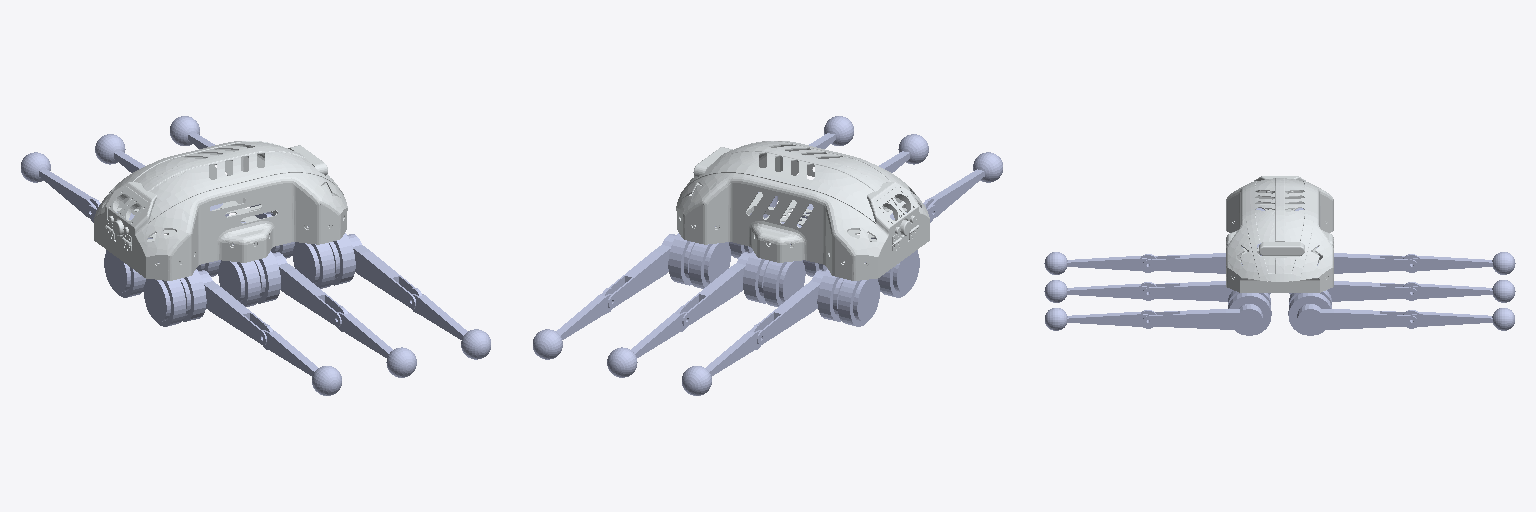
--- Facts derived from the render (not from the file) ---
3 views of the same robot in one strip: view 1: azimuth 30°, elevation 25°; view 2: azimuth 150°, elevation 25°; view 3: azimuth 270°, elevation 25° (orthographic).
Model new with 19 links and 18 joints (18 revolute), rooted at base_link, posed all joints at 0.
Visible links, largest first — view 1: base_link, R1_2, R3_2, R2_2, R1_3, R2_3, R3_3, R3_1, L3_3, R2_1, R1_1, L3_1 (+2 smaller); view 2: base_link, L1_2, L3_2, L2_2, L1_3, L2_3, L3_3, L3_1, R3_3, L2_1, L1_1, R3_1 (+2 smaller); view 3: base_link, L1_2, R1_2, L2_2, R2_2, L3_2, R3_2, L2_3, R3_3, R1_3, R2_3, L3_3 (+1 smaller).
Link boxes in pixels (x1,y1,x2,y2): base_link: (94, 141, 347, 280); R1_2: (329, 233, 415, 308); R3_2: (180, 269, 272, 344); R2_2: (254, 251, 347, 326); R1_3: (409, 288, 490, 359); R2_3: (335, 306, 416, 377); R3_3: (260, 324, 341, 395); R3_1: (144, 262, 185, 326); L3_3: (21, 152, 100, 222); R2_1: (218, 222, 260, 306); R1_1: (293, 226, 334, 288); L3_1: (104, 212, 152, 297); base_link: (676, 141, 929, 280); L1_2: (608, 233, 694, 308); L3_2: (751, 269, 843, 344); L2_2: (676, 251, 769, 326); L1_3: (533, 288, 614, 359); L2_3: (607, 306, 688, 377); L3_3: (682, 324, 763, 395); L3_1: (838, 262, 879, 326); R3_3: (923, 152, 1002, 222); L2_1: (763, 222, 805, 306); L1_1: (689, 226, 730, 288); R3_1: (871, 212, 919, 297); base_link: (1226, 176, 1333, 292); L1_2: (1288, 293, 1416, 335); R1_2: (1143, 293, 1271, 335); L2_2: (1289, 281, 1416, 301); R2_2: (1143, 281, 1270, 301); L3_2: (1334, 253, 1416, 273); R3_2: (1143, 253, 1225, 273); L2_3: (1403, 280, 1515, 302); R3_3: (1044, 252, 1156, 274); R1_3: (1045, 308, 1156, 330); R2_3: (1044, 280, 1156, 302); L3_3: (1403, 252, 1515, 274).
Bounding box of the posed robot: 0.4304 × 1 × 0.2403 m (x, y, z).
Meshes: 19 distinct files referenced, 19 mesh visuals loaded (19 binary STL).

robot.urdf — new:
<?xml version="1.0" encoding="utf-8"?>
<!-- This URDF was automatically created by SolidWorks to URDF Exporter! Originally created by Stephen Brawner ([email redacted]) 
     Commit Version: 1.6.0-4-g7f85cfe  Build Version: 1.6.7995.38578
     For more information, please see http://wiki.ros.org/sw_urdf_exporter -->
<robot
  name="new">
  <link
    name="base_link">
    <inertial>
      <origin
        xyz="0.0021167 8.5198E-05 0.02981"
        rpy="0 0 0" />
      <mass
        value="1.604" />
      <!-- <inertia
        ixx="0.0093722"
        ixy="-2.3907E-07"
        ixz="0.00039019"
        iyy="0.01924"
        iyz="1.5047E-06"
        izz="0.024851" />
    </inertial> -->
            <inertia
        ixx="1"
        ixy="0"
        ixz="0"
        iyy="1"
        iyz="0"
        izz="1" />
      </inertial> 
    <visual>
      <origin
        xyz="0 0 0"
        rpy="0 0 0" />
      <geometry>
        <mesh
          filename="package://new/meshes/base_link.STL" />
      </geometry>
      <material
        name="">
        <color
          rgba="0.89804 0.91765 0.92941 1" />
      </material>
    </visual>
    <collision>
      <origin
        xyz="0 0 0"
        rpy="0 0 0" />
      <geometry>
        <mesh
          filename="package://new/meshes/base_link.STL" />
      </geometry>
    </collision>
  </link>

  <!-- <xacro:include filename="$(find realsense2_description)/urdf/_d435i.urdf.xacro"/>
  <sensor_d435i parent="base_link" use_nominal_extrinsics="true">
    <origin xyz="0.0 -0.06 0.070" rpy="0 0 -1.57" />
  </sensor_d435i>   -->

  <link
    name="L1_1">
    <inertial>
      <origin
        xyz="-0.00067309 1.4848E-09 -0.031863"
        rpy="0 0 0" />
      <mass
        value="0.42231" />
      <!-- <inertia
        ixx="0.00033286"
        ixy="-3.0595E-13"
        ixz="-2.9159E-11"
        iyy="0.00024704"
        iyz="-1.474E-11"
        izz="0.00033852" />
    </inertial> -->
            <inertia
        ixx="1"
        ixy="0"
        ixz="0"
        iyy="1"
        iyz="0"
        izz="1" />
      </inertial> 
    <visual>
      <origin
        xyz="0 0 0"
        rpy="0 0 0" />
      <geometry>
        <mesh
          filename="package://new/meshes/L1_1.STL" />
      </geometry>
      <material
        name="">
        <color
          rgba="0.79216 0.81961 0.93333 1" />
      </material>
    </visual>
    <collision>
      <origin
        xyz="0 0 0"
        rpy="0 0 0" />
      <geometry>
        <mesh
          filename="package://new/meshes/L1_1.STL" />
      </geometry>
    </collision>
  </link>
  <joint
    name="L1_1J"
    type="revolute">
    <origin
      xyz="0.1409 0.065 -0.02125"
      rpy="0 0 0" />
    <parent
      link="base_link" />
    <child
      link="L1_1" />
    <axis
      xyz="0 0 -1" />
    <limit
      lower="-3"
      upper="3"
      effort="100"
      velocity="3" />
      <dynamics damping="0" friction="0.02"/>
  </joint>
  <link
    name="L1_2">
    <inertial>
      <origin
        xyz="0.049658 0.026192 -4.3584E-06"
        rpy="0 0 0" />
      <mass
        value="0.36848" />
      <!-- <inertia
        ixx="0.0011427"
        ixy="-0.00016978"
        ixz="2.8266E-08"
        iyy="0.0002345"
        iyz="1.9571E-07"
        izz="0.0011212" />
    </inertial> -->
            <inertia
        ixx="1"
        ixy="0"
        ixz="0"
        iyy="1"
        iyz="0"
        izz="1" />
      </inertial> 
    <visual>
      <origin
        xyz="0 0 0"
        rpy="0 0 0" />
      <geometry>
        <mesh
          filename="package://new/meshes/L1_2.STL" />
      </geometry>
      <material
        name="">
        <color
          rgba="0.79216 0.81961 0.93333 1" />
      </material>
    </visual>
    <collision>
      <origin
        xyz="0 0 0"
        rpy="0 0 0" />
      <geometry>
        <mesh
          filename="package://new/meshes/L1_2.STL" />
      </geometry>
    </collision>
  </link>
  <joint
    name="L1_2J"
    type="revolute">
    <origin
      xyz="0 0 -0.06575"
      rpy="0 0 0" />
    <parent
      link="L1_1" />
    <child
      link="L1_2" />
    <axis
      xyz="1 0 0" />
    <limit
      lower="-3"
      upper="3"
      effort="100"
      velocity="3" />
      <dynamics damping="0" friction="0.02"/>
  </joint>
  <link
    name="L1_3">
    <inertial>
      <origin
        xyz="-0.003 0.13449 2.7756E-17"
        rpy="0 0 0" />
      <mass
        value="0.12147" />
      <!-- <inertia
        ixx="0.00070059"
        ixy="1.7121E-19"
        ixz="5.131E-14"
        iyy="2.025E-05"
        iyz="-6.2828E-20"
        izz="0.00069843" />
    </inertial> -->
            <inertia
        ixx="1"
        ixy="0"
        ixz="0"
        iyy="1"
        iyz="0"
        izz="1" />
      </inertial> 
    <visual>
      <origin
        xyz="0 0 0"
        rpy="0 0 0" />
      <geometry>
        <mesh
          filename="package://new/meshes/L1_3.STL" />
      </geometry>
      <material
        name="">
        <color
          rgba="0.79216 0.81961 0.93333 1" />
      </material>
    </visual>
    <collision>
      <origin
        xyz="0 0 0"
        rpy="0 0 0" />
      <geometry>
        <mesh
          filename="package://new/meshes/L1_3.STL" />
      </geometry>
    </collision>
  </link>
  <joint
    name="L1_3J"
    type="revolute">
    <origin
      xyz="0.07025 0.216 0"
      rpy="0 0 0" />
    <parent
      link="L1_2" />
    <child
      link="L1_3" />
    <axis
      xyz="1 0 0" />
    <limit
      lower="-3"
      upper="3"
      effort="100"
      velocity="3" />
      <dynamics damping="0" friction="0.02"/>
  </joint>
  <link
    name="R1_1">
    <inertial>
      <origin
        xyz="-0.00067309 1.4848E-09 -0.031863"
        rpy="0 0 0" />
      <mass
        value="0.42231" />
      <!-- <inertia
        ixx="0.00033286"
        ixy="-3.0595E-13"
        ixz="-2.9159E-11"
        iyy="0.00024704"
        iyz="-1.474E-11"
        izz="0.00033852" />
    </inertial> -->
            <inertia
        ixx="1"
        ixy="0"
        ixz="0"
        iyy="1"
        iyz="0"
        izz="1" />
      </inertial> 
    <visual>
      <origin
        xyz="0 0 0"
        rpy="0 0 0" />
      <geometry>
        <mesh
          filename="package://new/meshes/R1_1.STL" />
      </geometry>
      <material
        name="">
        <color
          rgba="0.79216 0.81961 0.93333 1" />
      </material>
    </visual>
    <collision>
      <origin
        xyz="0 0 0"
        rpy="0 0 0" />
      <geometry>
        <mesh
          filename="package://new/meshes/R1_1.STL" />
      </geometry>
    </collision>
  </link>
  <joint
    name="R1_1J"
    type="revolute">
    <origin
      xyz="0.1409 -0.065 -0.02125"
      rpy="0 0 0" />
    <parent
      link="base_link" />
    <child
      link="R1_1" />
    <axis
      xyz="0 0 -1" />
    <limit
      lower="-3"
      upper="3"
      effort="100"
      velocity="3" />
      <dynamics damping="0" friction="0.02"/>
  </joint>
  <link
    name="R1_2">
    <inertial>
      <origin
        xyz="0.049658 -0.026192 4.3627E-06"
        rpy="0 0 0" />
      <mass
        value="0.36848" />
      <!-- <inertia
        ixx="0.0011427"
        ixy="0.00016978"
        ixz="-2.8266E-08"
        iyy="0.0002345"
        iyz="1.9571E-07"
        izz="0.0011212" />
    </inertial> -->
            <inertia
        ixx="1"
        ixy="0"
        ixz="0"
        iyy="1"
        iyz="0"
        izz="1" />
      </inertial> 
    <visual>
      <origin
        xyz="0 0 0"
        rpy="0 0 0" />
      <geometry>
        <mesh
          filename="package://new/meshes/R1_2.STL" />
      </geometry>
      <material
        name="">
        <color
          rgba="0.79216 0.81961 0.93333 1" />
      </material>
    </visual>
    <collision>
      <origin
        xyz="0 0 0"
        rpy="0 0 0" />
      <geometry>
        <mesh
          filename="package://new/meshes/R1_2.STL" />
      </geometry>
    </collision>
  </link>
  <joint
    name="R1_2J"
    type="revolute">
    <origin
      xyz="0 0 -0.06575"
      rpy="0 0 0" />
    <parent
      link="R1_1" />
    <child
      link="R1_2" />
    <axis
      xyz="1 0 0" />
    <limit
      lower="-3"
      upper="3"
      effort="100"
      velocity="3" />
      <dynamics damping="0" friction="0.02"/>
  </joint>
  <link
    name="R1_3">
    <inertial>
      <origin
        xyz="-0.003 -0.13449 -5.5511E-17"
        rpy="0 0 0" />
      <mass
        value="0.12147" />
      <!-- <inertia
        ixx="0.00070059"
        ixy="-1.2934E-19"
        ixz="-5.131E-14"
        iyy="2.025E-05"
        iyz="-6.9753E-20"
        izz="0.00069843" />
    </inertial> -->
            <inertia
        ixx="1"
        ixy="0"
        ixz="0"
        iyy="1"
        iyz="0"
        izz="1" />
      </inertial> 
    <visual>
      <origin
        xyz="0 0 0"
        rpy="0 0 0" />
      <geometry>
        <mesh
          filename="package://new/meshes/R1_3.STL" />
      </geometry>
      <material
        name="">
        <color
          rgba="0.79216 0.81961 0.93333 1" />
      </material>
    </visual>
    <collision>
      <origin
        xyz="0 0 0"
        rpy="0 0 0" />
      <geometry>
        <mesh
          filename="package://new/meshes/R1_3.STL" />
      </geometry>
    </collision>
  </link>
  <joint
    name="R1_3J"
    type="revolute">
    <origin
      xyz="0.07025 -0.216 0"
      rpy="0 0 0" />
    <parent
      link="R1_2" />
    <child
      link="R1_3" />
    <axis
      xyz="1 0 0" />
    <limit
      lower="-3"
      upper="3"
      effort="100"
      velocity="3" />
      <dynamics damping="0" friction="0.02"/>
  </joint>
  <link
    name="L2_1">
    <inertial>
      <origin
        xyz="-0.00067309 1.4848E-09 -0.031863"
        rpy="0 0 0" />
      <mass
        value="0.42231" />
      <!-- <inertia
        ixx="0.00033286"
        ixy="-3.0595E-13"
        ixz="-2.9159E-11"
        iyy="0.00024704"
        iyz="-1.474E-11"
        izz="0.00033852" />
    </inertial> -->
            <inertia
        ixx="1"
        ixy="0"
        ixz="0"
        iyy="1"
        iyz="0"
        izz="1" />
      </inertial> 
    <visual>
      <origin
        xyz="0 0 0"
        rpy="0 0 0" />
      <geometry>
        <mesh
          filename="package://new/meshes/L2_1.STL" />
      </geometry>
      <material
        name="">
        <color
          rgba="0.79216 0.81961 0.93333 1" />
      </material>
    </visual>
    <collision>
      <origin
        xyz="0 0 0"
        rpy="0 0 0" />
      <geometry>
        <mesh
          filename="package://new/meshes/L2_1.STL" />
      </geometry>
    </collision>
  </link>
  <joint
    name="L2_1J"
    type="revolute">
    <origin
      xyz="0 0.065 -0.02125"
      rpy="0 0 0" />
    <parent
      link="base_link" />
    <child
      link="L2_1" />
    <axis
      xyz="0 0 -1" />
    <limit
      lower="-3"
      upper="3"
      effort="100"
      velocity="3" />
      <dynamics damping="0" friction="0.02"/>
  </joint>
  <link
    name="L2_2">
    <inertial>
      <origin
        xyz="0.049658 0.026192 -4.3584E-06"
        rpy="0 0 0" />
      <mass
        value="0.36848" />
      <!-- <inertia
        ixx="0.0011427"
        ixy="-0.00016978"
        ixz="2.8266E-08"
        iyy="0.0002345"
        iyz="1.9571E-07"
        izz="0.0011212" />
    </inertial> -->
            <inertia
        ixx="1"
        ixy="0"
        ixz="0"
        iyy="1"
        iyz="0"
        izz="1" />
      </inertial> 
    <visual>
      <origin
        xyz="0 0 0"
        rpy="0 0 0" />
      <geometry>
        <mesh
          filename="package://new/meshes/L2_2.STL" />
      </geometry>
      <material
        name="">
        <color
          rgba="0.79216 0.81961 0.93333 1" />
      </material>
    </visual>
    <collision>
      <origin
        xyz="0 0 0"
        rpy="0 0 0" />
      <geometry>
        <mesh
          filename="package://new/meshes/L2_2.STL" />
      </geometry>
    </collision>
  </link>
  <joint
    name="L2_2J"
    type="revolute">
    <origin
      xyz="0 0 -0.06575"
      rpy="0 0 0" />
    <parent
      link="L2_1" />
    <child
      link="L2_2" />
    <axis
      xyz="1 0 0" />
    <limit
      lower="-3"
      upper="3"
      effort="100"
      velocity="3" />
      <dynamics damping="0" friction="0.02"/>
  </joint>
  <link
    name="L2_3">
    <inertial>
      <origin
        xyz="-0.003 0.13449 0"
        rpy="0 0 0" />
      <mass
        value="0.12147" />
      <!-- <inertia
        ixx="0.00070059"
        ixy="1.5629E-19"
        ixz="5.131E-14"
        iyy="2.025E-05"
        iyz="-4.5384E-20"
        izz="0.00069843" />
    </inertial> -->
            <inertia
        ixx="1"
        ixy="0"
        ixz="0"
        iyy="1"
        iyz="0"
        izz="1" />
      </inertial> 
    <visual>
      <origin
        xyz="0 0 0"
        rpy="0 0 0" />
      <geometry>
        <mesh
          filename="package://new/meshes/L2_3.STL" />
      </geometry>
      <material
        name="">
        <color
          rgba="0.79216 0.81961 0.93333 1" />
      </material>
    </visual>
    <collision>
      <origin
        xyz="0 0 0"
        rpy="0 0 0" />
      <geometry>
        <mesh
          filename="package://new/meshes/L2_3.STL" />
      </geometry>
    </collision>
  </link>
  <joint
    name="L2_3J"
    type="revolute">
    <origin
      xyz="0.07025 0.216 0"
      rpy="0 0 0" />
    <parent
      link="L2_2" />
    <child
      link="L2_3" />
    <axis
      xyz="1 0 0" />
    <limit
      lower="-3"
      upper="3"
      effort="100"
      velocity="3" />
      <dynamics damping="0" friction="0.02"/>
  </joint>
  <link
    name="R2_1">
    <inertial>
      <origin
        xyz="-0.00067309 1.4848E-09 -0.031863"
        rpy="0 0 0" />
      <mass
        value="0.42231" />
      <!-- <inertia
        ixx="0.00033286"
        ixy="-3.0595E-13"
        ixz="-2.9159E-11"
        iyy="0.00024704"
        iyz="-1.474E-11"
        izz="0.00033852" />
    </inertial> -->
            <inertia
        ixx="1"
        ixy="0"
        ixz="0"
        iyy="1"
        iyz="0"
        izz="1" />
      </inertial> 
    <visual>
      <origin
        xyz="0 0 0"
        rpy="0 0 0" />
      <geometry>
        <mesh
          filename="package://new/meshes/R2_1.STL" />
      </geometry>
      <material
        name="">
        <color
          rgba="0.79216 0.81961 0.93333 1" />
      </material>
    </visual>
    <collision>
      <origin
        xyz="0 0 0"
        rpy="0 0 0" />
      <geometry>
        <mesh
          filename="package://new/meshes/R2_1.STL" />
      </geometry>
    </collision>
  </link>
  <joint
    name="R2_1J"
    type="revolute">
    <origin
      xyz="0 -0.065 -0.02125"
      rpy="0 0 0" />
    <parent
      link="base_link" />
    <child
      link="R2_1" />
    <axis
      xyz="0 0 -1" />
    <limit
      lower="-3"
      upper="3"
      effort="100"
      velocity="3" />
      <dynamics damping="0" friction="0.02"/>
  </joint>
  <link
    name="R2_2">
    <inertial>
      <origin
        xyz="0.049658 -0.026192 4.3627E-06"
        rpy="0 0 0" />
      <mass
        value="0.36848" />
      <!-- <inertia
        ixx="0.0011427"
        ixy="0.00016978"
        ixz="-2.8266E-08"
        iyy="0.0002345"
        iyz="1.9571E-07"
        izz="0.0011212" />
    </inertial> -->
            <inertia
        ixx="1"
        ixy="0"
        ixz="0"
        iyy="1"
        iyz="0"
        izz="1" />
      </inertial> 
    <visual>
      <origin
        xyz="0 0 0"
        rpy="0 0 0" />
      <geometry>
        <mesh
          filename="package://new/meshes/R2_2.STL" />
      </geometry>
      <material
        name="">
        <color
          rgba="0.79216 0.81961 0.93333 1" />
      </material>
    </visual>
    <collision>
      <origin
        xyz="0 0 0"
        rpy="0 0 0" />
      <geometry>
        <mesh
          filename="package://new/meshes/R2_2.STL" />
      </geometry>
    </collision>
  </link>
  <joint
    name="R2_2J"
    type="revolute">
    <origin
      xyz="0 0 -0.06575"
      rpy="0 0 0" />
    <parent
      link="R2_1" />
    <child
      link="R2_2" />
    <axis
      xyz="1 0 0" />
    <limit
      lower="-3"
      upper="3"
      effort="100"
      velocity="3" />
      <dynamics damping="0" friction="0.02"/>
  </joint>
  <link
    name="R2_3">
    <inertial>
      <origin
        xyz="0.003 -0.134485646148589 -2.77555756156289E-17"
        rpy="0 0 0" />
      <mass
        value="0.12147150023465" />
      <!-- <inertia
        ixx="0.000700586529163542"
        ixy="-1.18247564853111E-19"
        ixz="-5.13095320285965E-14"
        iyy="2.02504146274256E-05"
        iyz="-1.08211276134211E-19"
        izz="0.000698429465120906" />
    </inertial> -->
            <inertia
        ixx="1"
        ixy="0"
        ixz="0"
        iyy="1"
        iyz="0"
        izz="1" />
      </inertial> 
    <visual>
      <origin
        xyz="0 0 0"
        rpy="0 0 0" />
      <geometry>
        <mesh
          filename="package://new/meshes/R2_3.STL" />
      </geometry>
      <material
        name="">
        <color
          rgba="0.792156862745098 0.819607843137255 0.933333333333333 1" />
      </material>
    </visual>
    <collision>
      <origin
        xyz="0 0 0"
        rpy="0 0 0" />
      <geometry>
        <mesh
          filename="package://new/meshes/R2_3.STL" />
      </geometry>
    </collision>
  </link>
  <joint
    name="R2_3J"
    type="revolute">
    <origin
      xyz="0.06425 -0.216 0"
      rpy="0 0 0" />
    <parent
      link="R2_2" />
    <child
      link="R2_3" />
    <axis
      xyz="1 0 0" />
    <limit
      lower="-3"
      upper="3"
      effort="100"
      velocity="3" />
      <dynamics damping="0" friction="0.02"/>
  </joint>
  <link
    name="L3_1">
    <inertial>
      <origin
        xyz="-0.00067309 1.4848E-09 -0.031863"
        rpy="0 0 0" />
      <mass
        value="0.42231" />
      <!-- <inertia
        ixx="0.00033286"
        ixy="-3.0595E-13"
        ixz="-2.9159E-11"
        iyy="0.00024704"
        iyz="-1.474E-11"
        izz="0.00033852" />
    </inertial> -->
            <inertia
        ixx="1"
        ixy="0"
        ixz="0"
        iyy="1"
        iyz="0"
        izz="1" />
      </inertial> 
    <visual>
      <origin
        xyz="0 0 0"
        rpy="0 0 0" />
      <geometry>
        <mesh
          filename="package://new/meshes/L3_1.STL" />
      </geometry>
      <material
        name="">
        <color
          rgba="0.79216 0.81961 0.93333 1" />
      </material>
    </visual>
    <collision>
      <origin
        xyz="0 0 0"
        rpy="0 0 0" />
      <geometry>
        <mesh
          filename="package://new/meshes/L3_1.STL" />
      </geometry>
    </collision>
  </link>
  <joint
    name="L3_1J"
    type="revolute">
    <origin
      xyz="-0.1409 0.065 -0.02125"
      rpy="0 0 0" />
    <parent
      link="base_link" />
    <child
      link="L3_1" />
    <axis
      xyz="0 0 -1" />
    <limit
      lower="-3"
      upper="3"
      effort="100"
      velocity="3" />
      <dynamics damping="0" friction="0.02"/>
  </joint>
  <link
    name="L3_2">
    <inertial>
      <origin
        xyz="0.049658 0.026192 -4.3584E-06"
        rpy="0 0 0" />
      <mass
        value="0.36848" />
      <!-- <inertia
        ixx="0.0011427"
        ixy="-0.00016978"
        ixz="2.8266E-08"
        iyy="0.0002345"
        iyz="1.9571E-07"
        izz="0.0011212" />
    </inertial> -->
            <inertia
        ixx="1"
        ixy="0"
        ixz="0"
        iyy="1"
        iyz="0"
        izz="1" />
      </inertial> 
    <visual>
      <origin
        xyz="0 0 0"
        rpy="0 0 0" />
      <geometry>
        <mesh
          filename="package://new/meshes/L3_2.STL" />
      </geometry>
      <material
        name="">
        <color
          rgba="0.79216 0.81961 0.93333 1" />
      </material>
    </visual>
    <collision>
      <origin
        xyz="0 0 0"
        rpy="0 0 0" />
      <geometry>
        <mesh
          filename="package://new/meshes/L3_2.STL" />
      </geometry>
    </collision>
  </link>
  <joint
    name="L3_2J"
    type="revolute">
    <origin
      xyz="0 0 -0.06575"
      rpy="0 0 0" />
    <parent
      link="L3_1" />
    <child
      link="L3_2" />
    <axis
      xyz="1 0 0" />
    <limit
      lower="-3"
      upper="3"
      effort="100"
      velocity="3" />
      <dynamics damping="0" friction="0.02"/>
  </joint>
  <link
    name="L3_3">
    <inertial>
      <origin
        xyz="0.003 0.13449 2.7756E-17"
        rpy="0 0 0" />
      <mass
        value="0.12147" />
      <!-- <inertia
        ixx="0.00070059"
        ixy="1.5737E-19"
        ixz="5.131E-14"
        iyy="2.025E-05"
        iyz="-8.1516E-21"
        izz="0.00069843" />
    </inertial> -->
            <inertia
        ixx="1"
        ixy="0"
        ixz="0"
        iyy="1"
        iyz="0"
        izz="1" />
      </inertial> 
    <visual>
      <origin
        xyz="0 0 0"
        rpy="0 0 0" />
      <geometry>
        <mesh
          filename="package://new/meshes/L3_3.STL" />
      </geometry>
      <material
        name="">
        <color
          rgba="0.79216 0.81961 0.93333 1" />
      </material>
    </visual>
    <collision>
      <origin
        xyz="0 0 0"
        rpy="0 0 0" />
      <geometry>
        <mesh
          filename="package://new/meshes/L3_3.STL" />
      </geometry>
    </collision>
  </link>
  <joint
    name="L3_3J"
    type="revolute">
    <origin
      xyz="0.06425 0.216 0"
      rpy="0 0 0" />
    <parent
      link="L3_2" />
    <child
      link="L3_3" />
    <axis
      xyz="1 0 0" />
    <limit
      lower="-3"
      upper="3"
      effort="100"
      velocity="3" />
      <dynamics damping="0" friction="0.02"/>
  </joint>
  <link
    name="R3_1">
    <inertial>
      <origin
        xyz="-0.00067309 1.4848E-09 -0.031863"
        rpy="0 0 0" />
      <mass
        value="0.42231" />
      <!-- <inertia
        ixx="0.00033286"
        ixy="-3.0595E-13"
        ixz="-2.9159E-11"
        iyy="0.00024704"
        iyz="-1.474E-11"
        izz="0.00033852" />
    </inertial> -->
            <inertia
        ixx="1"
        ixy="0"
        ixz="0"
        iyy="1"
        iyz="0"
        izz="1" />
      </inertial> 
    <visual>
      <origin
        xyz="0 0 0"
        rpy="0 0 0" />
      <geometry>
        <mesh
          filename="package://new/meshes/R3_1.STL" />
      </geometry>
      <material
        name="">
        <color
          rgba="0.79216 0.81961 0.93333 1" />
      </material>
    </visual>
    <collision>
      <origin
        xyz="0 0 0"
        rpy="0 0 0" />
      <geometry>
        <mesh
          filename="package://new/meshes/R3_1.STL" />
      </geometry>
    </collision>
  </link>
  <joint
    name="R3_1J"
    type="revolute">
    <origin
      xyz="-0.1409 -0.065 -0.02125"
      rpy="0 0 0" />
    <parent
      link="base_link" />
    <child
      link="R3_1" />
    <axis
      xyz="0 0 -1" />
    <limit
      lower="-3"
      upper="3"
      effort="100"
      velocity="3" />
      <dynamics damping="0" friction="0.02"/>
  </joint>
  <link
    name="R3_2">
    <inertial>
      <origin
        xyz="0.049658 -0.026192 4.3627E-06"
        rpy="0 0 0" />
      <mass
        value="0.36848" />
      <!-- <inertia
        ixx="0.0011427"
        ixy="0.00016978"
        ixz="-2.8266E-08"
        iyy="0.0002345"
        iyz="1.9571E-07"
        izz="0.0011212" />
    </inertial> -->
            <inertia
        ixx="1"
        ixy="0"
        ixz="0"
        iyy="1"
        iyz="0"
        izz="1" />
      </inertial> 
    <visual>
      <origin
        xyz="0 0 0"
        rpy="0 0 0" />
      <geometry>
        <mesh
          filename="package://new/meshes/R3_2.STL" />
      </geometry>
      <material
        name="">
        <color
          rgba="0.79216 0.81961 0.93333 1" />
      </material>
    </visual>
    <collision>
      <origin
        xyz="0 0 0"
        rpy="0 0 0" />
      <geometry>
        <mesh
          filename="package://new/meshes/R3_2.STL" />
      </geometry>
    </collision>
  </link>
  <joint
    name="R3_2J"
    type="revolute">
    <origin
      xyz="0 0 -0.06575"
      rpy="0 0 0" />
    <parent
      link="R3_1" />
    <child
      link="R3_2" />
    <axis
      xyz="1 0 0" />
    <limit
      lower="-3"
      upper="3"
      effort="100"
      velocity="3" />
      <dynamics damping="0" friction="0.02"/>
  </joint>
  <link
    name="R3_3">
    <inertial>
      <origin
        xyz="0.003 -0.13449 0"
        rpy="0 0 0" />
      <mass
        value="0.12147" />
      <!-- <inertia
        ixx="0.00070059"
        ixy="-1.906E-19"
        ixz="-5.131E-14"
        iyy="2.025E-05"
        iyz="-2.412E-19"
        izz="0.00069843" />
    </inertial> -->
            <inertia
        ixx="1"
        ixy="0"
        ixz="0"
        iyy="1"
        iyz="0"
        izz="1" />
      </inertial> 
    <visual>
      <origin
        xyz="0 0 0"
        rpy="0 0 0" />
      <geometry>
        <mesh
          filename="package://new/meshes/R3_3.STL" />
      </geometry>
      <material
        name="">
        <color
          rgba="0.79216 0.81961 0.93333 1" />
      </material>
    </visual>
    <collision>
      <origin
        xyz="0 0 0"
        rpy="0 0 0" />
      <geometry>
        <mesh
          filename="package://new/meshes/R3_3.STL" />
      </geometry>
    </collision>
  </link>
  <joint
    name="R3_3J"
    type="revolute">
    <origin
      xyz="0.06425 -0.216 0"
      rpy="0 0 0" />
    <parent
      link="R3_2" />
    <child
      link="R3_3" />
    <axis
      xyz="1 0 0" />
    <limit
      lower="-3"
      upper="3"
      effort="100"
      velocity="3" />
      <dynamics damping="0" friction="0.02"/>
  </joint>

<transmission name="trans_L1_1_joint">
        <type>transmission_interface/SimpleTransmission</type>
        <joint name="L1_1J">
            <hardwareInterface>hardware_interface/EffortJointInterface</hardwareInterface>
        </joint>
        <actuator name="L1_1_joint_motor">
            <hardwareInterface>hardware_interface/EffortJointInterface</hardwareInterface>
            <mechanicalReduction>1</mechanicalReduction>
        </actuator>
    </transmission>

<transmission name="trans_L1_2_joint">
        <type>transmission_interface/SimpleTransmission</type>
        <joint name="L1_2J">
            <hardwareInterface>hardware_interface/EffortJointInterface</hardwareInterface>
        </joint>
        <actuator name="L1_2_joint_motor">
            <hardwareInterface>hardware_interface/EffortJointInterface</hardwareInterface>
            <mechanicalReduction>1</mechanicalReduction>
        </actuator>
    </transmission>

<transmission name="trans_L1_3_joint">
        <type>transmission_interface/SimpleTransmission</type>
        <joint name="L1_3J">
            <hardwareInterface>hardware_interface/EffortJointInterface</hardwareInterface>
        </joint>
        <actuator name="L1_3_joint_motor">
            <hardwareInterface>hardware_interface/EffortJointInterface</hardwareInterface>
            <mechanicalReduction>1</mechanicalReduction>
        </actuator>
    </transmission>

<transmission name="trans_L2_1_joint">
        <type>transmission_interface/SimpleTransmission</type>
        <joint name="L2_1J">
            <hardwareInterface>hardware_interface/EffortJointInterface</hardwareInterface>
        </joint>
        <actuator name="L2_1_joint_motor">
            <hardwareInterface>hardware_interface/EffortJointInterface</hardwareInterface>
            <mechanicalReduction>1</mechanicalReduction>
        </actuator>
    </transmission>

<transmission name="trans_L2_2_joint">
        <type>transmission_interface/SimpleTransmission</type>
        <joint name="L2_2J">
            <hardwareInterface>hardware_interface/EffortJointInterface</hardwareInterface>
        </joint>
        <actuator name="L2_2_joint_motor">
            <hardwareInterface>hardware_interface/EffortJointInterface</hardwareInterface>
            <mechanicalReduction>1</mechanicalReduction>
        </actuator>
    </transmission>

  <transmission name="trans_L2_3_joint">
        <type>transmission_interface/SimpleTransmission</type>
        <joint name="L2_3J">
            <hardwareInterface>hardware_interface/EffortJointInterface</hardwareInterface>
        </joint>
        <actuator name="L2_3_joint_motor">
            <hardwareInterface>hardware_interface/EffortJointInterface</hardwareInterface>
            <mechanicalReduction>1</mechanicalReduction>
        </actuator>
    </transmission>

  <transmission name="trans_L3_1_joint">
        <type>transmission_interface/SimpleTransmission</type>
        <joint name="L3_1J">
            <hardwareInterface>hardware_interface/EffortJointInterface</hardwareInterface>
        </joint>
        <actuator name="L3_1_joint_motor">
            <hardwareInterface>hardware_interface/EffortJointInterface</hardwareInterface>
            <mechanicalReduction>1</mechanicalReduction>
        </actuator>
    </transmission>

  <transmission name="trans_L3_2_joint">
        <type>transmission_interface/SimpleTransmission</type>
        <joint name="L3_2J">
            <hardwareInterface>hardware_interface/EffortJointInterface</hardwareInterface>
        </joint>
        <actuator name="L3_2_joint_motor">
            <hardwareInterface>hardware_interface/EffortJointInterface</hardwareInterface>
            <mechanicalReduction>1</mechanicalReduction>
        </actuator>
    </transmission>

  <transmission name="trans_L3_3_joint">
        <type>transmission_interface/SimpleTransmission</type>
        <joint name="L3_3J">
            <hardwareInterface>hardware_interface/EffortJointInterface</hardwareInterface>
        </joint>
        <actuator name="L3_3_joint_motor">
            <hardwareInterface>hardware_interface/EffortJointInterface</hardwareInterface>
            <mechanicalReduction>1</mechanicalReduction>
        </actuator>
    </transmission>
<transmission name="trans_R1_1_joint">
        <type>transmission_interface/SimpleTransmission</type>
        <joint name="R1_1J">
            <hardwareInterface>hardware_interface/EffortJointInterface</hardwareInterface>
        </joint>
        <actuator name="R1_1_joint_motor">
            <hardwareInterface>hardware_interface/EffortJointInterface</hardwareInterface>
            <mechanicalReduction>1</mechanicalReduction>
        </actuator>
    </transmission>

<transmission name="trans_R1_2_joint">
        <type>transmission_interface/SimpleTransmission</type>
        <joint name="R1_2J">
            <hardwareInterface>hardware_interface/EffortJointInterface</hardwareInterface>
        </joint>
        <actuator name="R1_2_joint_motor">
            <hardwareInterface>hardware_interface/EffortJointInterface</hardwareInterface>
            <mechanicalReduction>1</mechanicalReduction>
        </actuator>
    </transmission>

<transmission name="trans_R1_3_joint">
        <type>transmission_interface/SimpleTransmission</type>
        <joint name="R1_3J">
            <hardwareInterface>hardware_interface/EffortJointInterface</hardwareInterface>
        </joint>
        <actuator name="R1_3_joint_motor">
            <hardwareInterface>hardware_interface/EffortJointInterface</hardwareInterface>
            <mechanicalReduction>1</mechanicalReduction>
        </actuator>
    </transmission>

<transmission name="trans_R2_1_joint">
        <type>transmission_interface/SimpleTransmission</type>
        <joint name="R2_1J">
            <hardwareInterface>hardware_interface/EffortJointInterface</hardwareInterface>
        </joint>
        <actuator name="R2_1_joint_motor">
            <hardwareInterface>hardware_interface/EffortJointInterface</hardwareInterface>
            <mechanicalReduction>1</mechanicalReduction>
        </actuator>
    </transmission>

<transmission name="trans_R2_2_joint">
        <type>transmission_interface/SimpleTransmission</type>
        <joint name="R2_2J">
            <hardwareInterface>hardware_interface/EffortJointInterface</hardwareInterface>
        </joint>
        <actuator name="R2_2_joint_motor">
            <hardwareInterface>hardware_interface/EffortJointInterface</hardwareInterface>
            <mechanicalReduction>1</mechanicalReduction>
        </actuator>
    </transmission>

  <transmission name="trans_R2_3_joint">
        <type>transmission_interface/SimpleTransmission</type>
        <joint name="R2_3J">
            <hardwareInterface>hardware_interface/EffortJointInterface</hardwareInterface>
        </joint>
        <actuator name="R2_3_joint_motor">
            <hardwareInterface>hardware_interface/EffortJointInterface</hardwareInterface>
            <mechanicalReduction>1</mechanicalReduction>
        </actuator>
    </transmission>

  <transmission name="trans_R3_1_joint">
        <type>transmission_interface/SimpleTransmission</type>
        <joint name="R3_1J">
            <hardwareInterface>hardware_interface/EffortJointInterface</hardwareInterface>
        </joint>
        <actuator name="R3_1_joint_motor">
            <hardwareInterface>hardware_interface/EffortJointInterface</hardwareInterface>
            <mechanicalReduction>1</mechanicalReduction>
        </actuator>
    </transmission>

  <transmission name="trans_R3_2_joint">
        <type>transmission_interface/SimpleTransmission</type>
        <joint name="R3_2J">
            <hardwareInterface>hardware_interface/EffortJointInterface</hardwareInterface>
        </joint>
        <actuator name="R3_2_joint_motor">
            <hardwareInterface>hardware_interface/EffortJointInterface</hardwareInterface>
            <mechanicalReduction>1</mechanicalReduction>
        </actuator>
    </transmission>

  <transmission name="trans_R3_3_joint">
        <type>transmission_interface/SimpleTransmission</type>
        <joint name="R3_3J">
            <hardwareInterface>hardware_interface/EffortJointInterface</hardwareInterface>
        </joint>
        <actuator name="R3_3_joint_motor">
            <hardwareInterface>hardware_interface/EffortJointInterface</hardwareInterface>
            <mechanicalReduction>1</mechanicalReduction>
        </actuator>
    </transmission>
    
<!-- 将机器人挂起  -->



  <!-- fix the model  -->
  <!-- <link name="world"/>
  <joint name="fix" type="fixed">
  <origin xyz="0 0 0.5" rpy="0 0 0"/>
  <parent link="world"/>
  <child link="base_link"/>
  </joint> -->

  <!-- lcc 20230426 -->
  <gazebo>
    <plugin name="imu_plugin" filename="libgazebo_ros_imu.so">
  	  <alwaysOn>true</alwaysOn>
    	<bodyName>base_link</bodyName>
    	<topicName>imu</topicName>
    	<serviceName>imu_service</serviceName>
    	<gaussianNoise>0.0</gaussianNoise>
      <xyzOffset>0 0 0</xyzOffset>
      <rpyOffset>0 0 0</rpyOffset>
      <frameName>base_link</frameName>
    	<updateRate>500.0</updateRate>
    </plugin>

    <plugin name="POS_COM" filename="libgazebo_ros_p3d.so">
      <alwaysOn>true</alwaysOn>
      <updateRate>500.0</updateRate>
      <bodyName>base_link</bodyName>
      <topicName>POS_COM</topicName>
      <gaussianNoise>0.0</gaussianNoise>
      <frameName>map</frameName>
      <xyzOffsets>0 0 0</xyzOffsets>
      <rpyOffsets>0 0 0</rpyOffsets>
    </plugin>
  </gazebo>

  <gazebo>
        <plugin name="gazebo_ros_control" filename="libgazebo_ros_control.so">
            <robotNamespace>/new</robotNamespace>
            <robotSimType>gazebo_ros_control/DefaultRobotHWSim</robotSimType>
        </plugin>
  </gazebo>





</robot>
